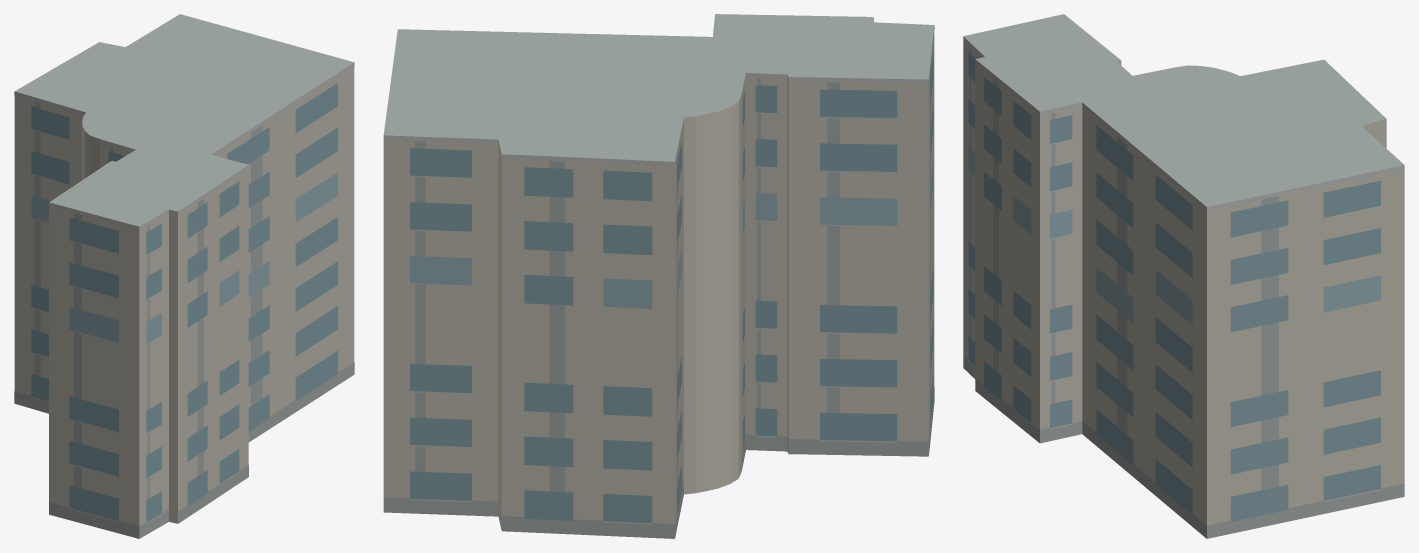
Rendered from survey-upis-32806749.glb.
The picture shows the model from 3 angles, left to right: view 1: azimuth 30°, elevation 25°; view 2: azimuth 150°, elevation 25°; view 3: azimuth 270°, elevation 25°; orthographic projection. The views are drawn at different scales.
Parts seen in each view (by area): view 1: survey-upis-32806749.tmp; view 2: survey-upis-32806749.tmp; view 3: survey-upis-32806749.tmp.
Boxes of the visible parts, x1,y1,x2,y2 form: survey-upis-32806749.tmp: (14, 14, 354, 538); survey-upis-32806749.tmp: (383, 14, 934, 538); survey-upis-32806749.tmp: (963, 14, 1404, 538).
Size of the model in its own units: 24.17 by 19.35 by 23.34.
